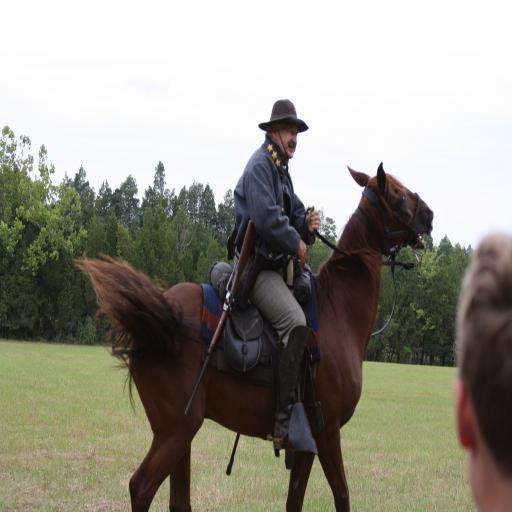horse: (72, 160, 434, 512)
